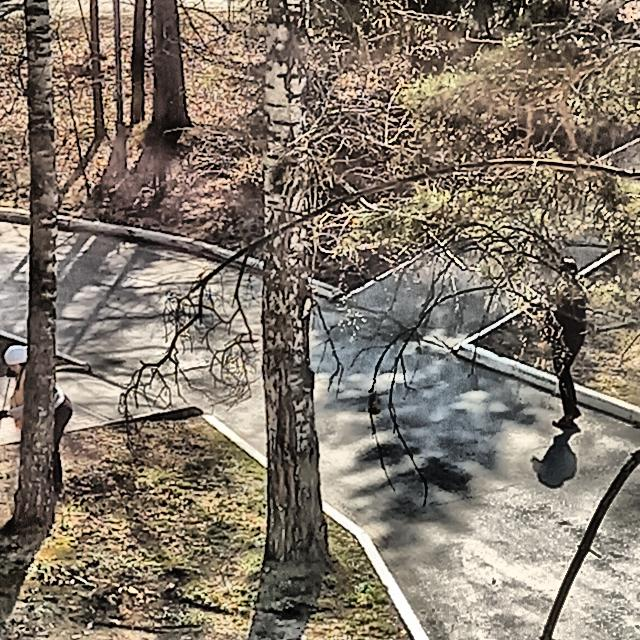Human: (527, 255, 608, 457)
